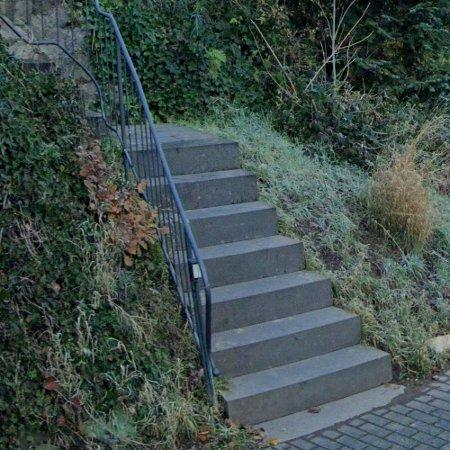stairs: (158, 126, 403, 441)
